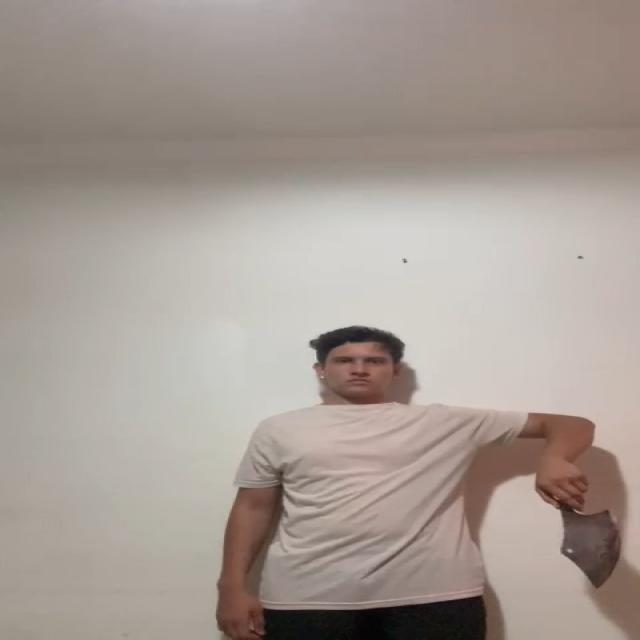knife: (553, 507, 629, 585)
